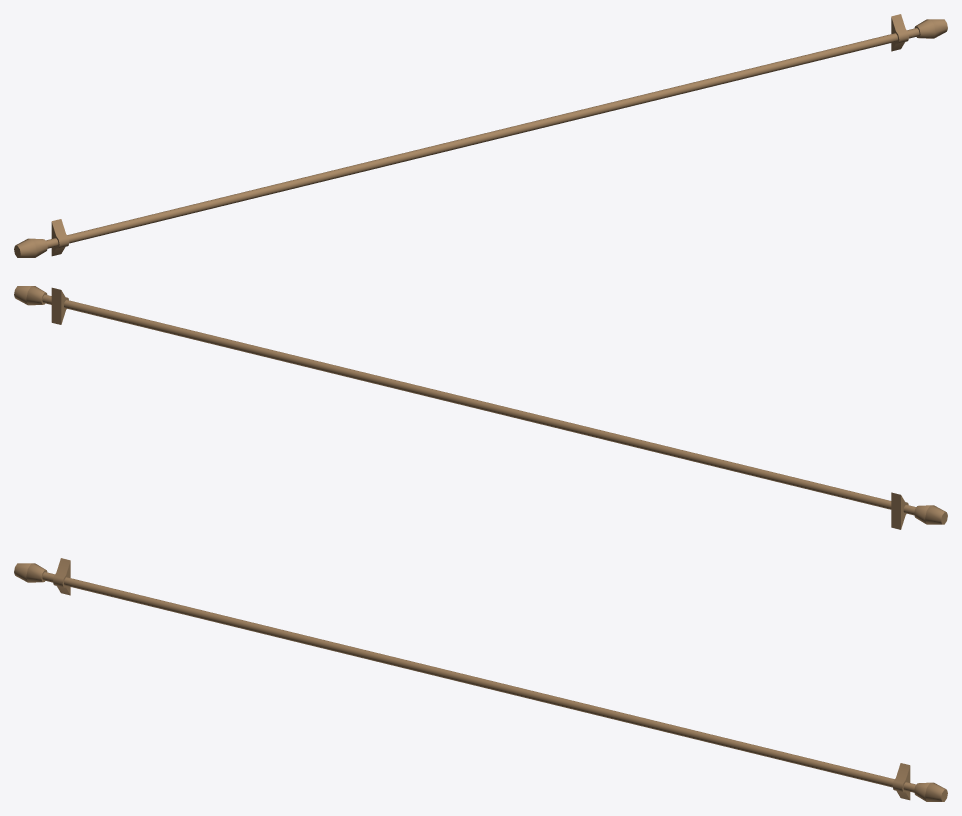
The model's file is LV29_rod.fbx.
3 renders of one model, top to bottom at view 1: azimuth 30°, elevation 25°; view 2: azimuth 150°, elevation 25°; view 3: azimuth 330°, elevation 25°, orthographic.
Visible parts, largest first — view 1: rod; view 2: rod; view 3: rod.
Part boxes in pixels (x1,y1,x2,y2): rod: (14, 14, 947, 257); rod: (14, 286, 947, 529); rod: (14, 558, 947, 801).
Size of the model in its own units: 397 by 14.41 by 7.92.
